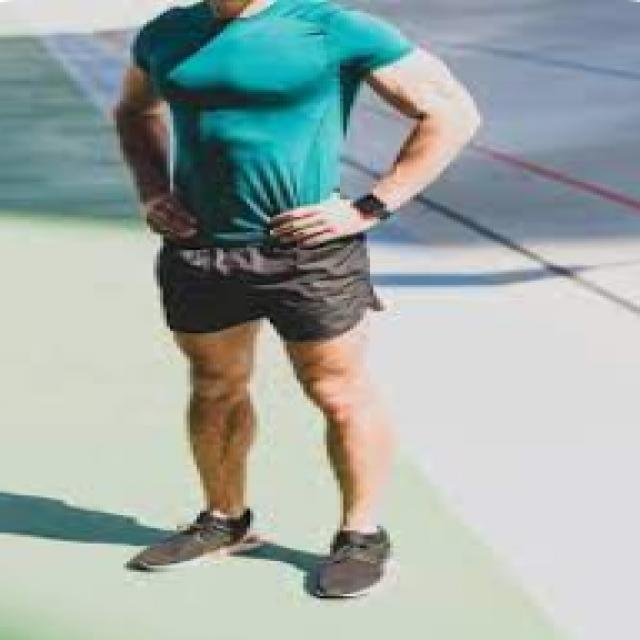Watch: (352, 188, 400, 226)
